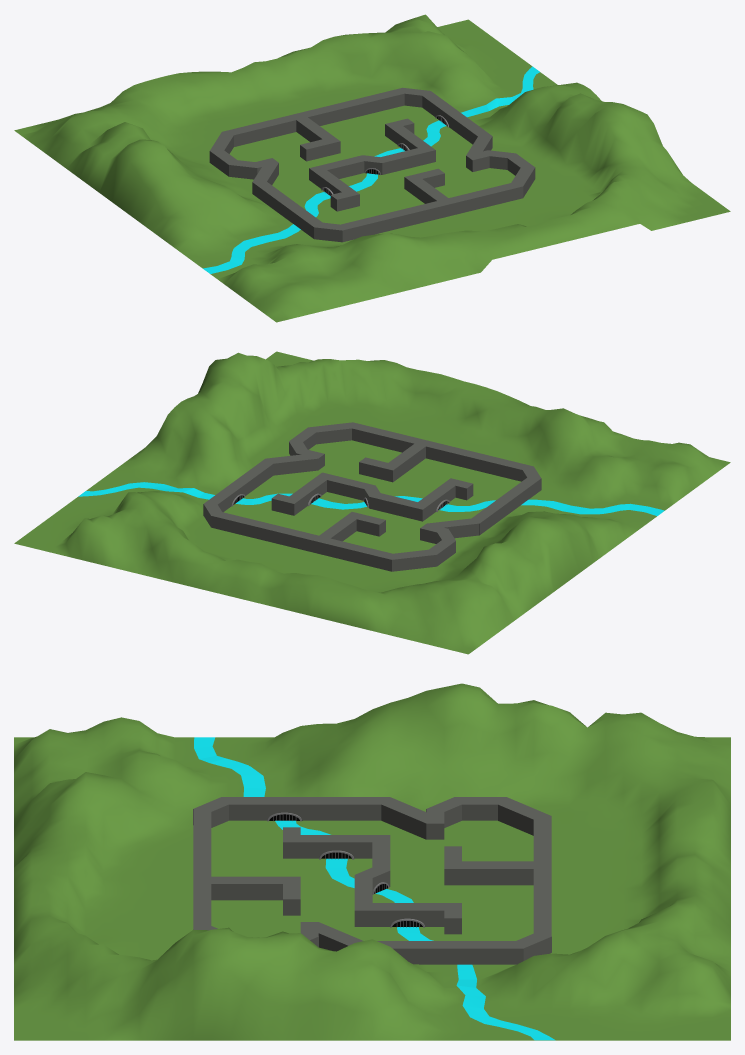
The model's file is Arena 1.fbx.
The picture shows the model from 3 angles, top to bottom: view 1: azimuth 30°, elevation 25°; view 2: azimuth 150°, elevation 25°; view 3: azimuth 270°, elevation 25°; orthographic projection. The views are drawn at different scales.
Visible parts, largest first — view 1: Plane, Cube__4__2, Cube__4__1, Cube__18_, Cube__18__1, Cube__3_, Sprite__2_, Cube__4_, Cube__11_, Cube, Cube__10_, Sprite__3_ (+4 smaller); view 2: Plane, Cube__4__1, Cube__4__2, Cube__18_, Cube__18__1, Cube__4_, Sprite__2_, Cube__10_, Cube__16__1, Cube__1_, Cube__14_, Sprite__3_ (+7 smaller); view 3: Plane, Cube__18_, Cube__18__1, Cube__11_, Cube__4__1, Cube__4__2, Cube__10_, Cube, Cube__1_, Sprite__3_, Sprite__2_, Cube__16_ (+12 smaller).
Part boxes in pixels (x1,y1,x2,y2): Plane: (14, 14, 730, 322); Cube__4__2: (337, 183, 523, 241); Cube__4__1: (222, 88, 408, 146); Cube__18_: (252, 182, 324, 239); Cube__18__1: (419, 91, 492, 147); Cube__3_: (378, 145, 435, 174); Sprite__2_: (203, 224, 300, 273); Cube__4_: (309, 155, 368, 184); Cube__11_: (296, 117, 340, 155); Cube: (315, 170, 359, 208); Cube__10_: (404, 174, 448, 203); Sprite__3_: (461, 66, 539, 117); Plane: (14, 351, 730, 654); Cube__4__1: (211, 511, 397, 571); Cube__4__2: (352, 422, 532, 481); Cube__18_: (468, 475, 541, 535); Cube__18__1: (203, 458, 273, 515); Cube__4_: (369, 492, 429, 521); Sprite__2_: (521, 499, 664, 516); Cube__10_: (381, 443, 425, 482); Cube__16__1: (266, 453, 318, 475); Cube__1_: (283, 477, 326, 515); Cube__14_: (390, 549, 436, 571); Sprite__3_: (78, 482, 214, 499); Plane: (14, 683, 730, 1040); Cube__18_: (221, 797, 390, 820); Cube__18__1: (377, 941, 523, 964); Cube__11_: (444, 861, 533, 885); Cube__4__1: (533, 816, 551, 936); Cube__4__2: (193, 809, 211, 929); Cube__10_: (211, 876, 300, 900); Cube: (283, 835, 372, 858); Cube__1_: (372, 903, 461, 926); Sprite__3_: (456, 964, 555, 1040); Sprite__2_: (194, 737, 265, 796); Cube__16_: (377, 797, 435, 839).
Size of the model in its own units: 40024 by 5783 by 40000.
